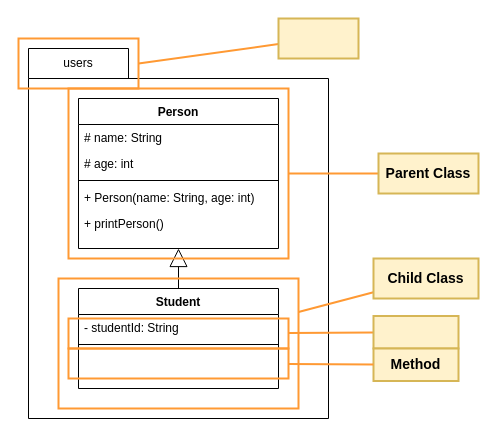
This 496x436 diagram has some shape labels left out. Each missing label, with the box of its shape:
+ getStudentId() : String: (67, 347, 289, 379)
Package: (277, 17, 359, 59)
Property: (372, 314, 459, 349)
